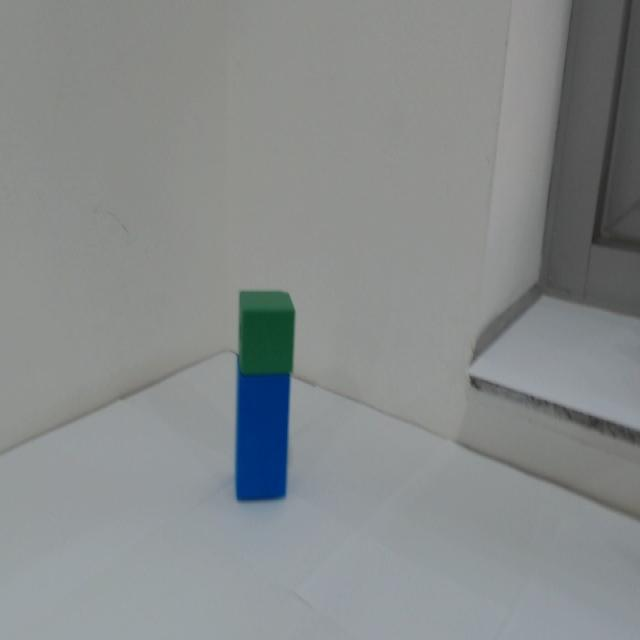cube: (233, 282, 300, 376)
